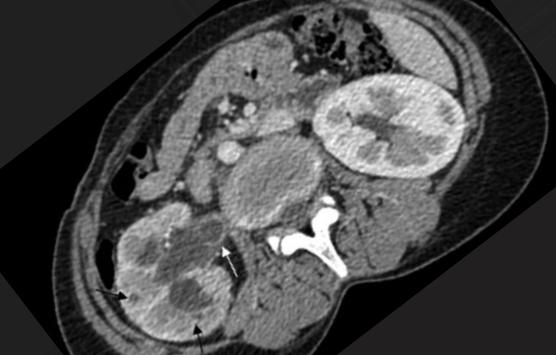anomaly: (158, 281, 212, 313)
